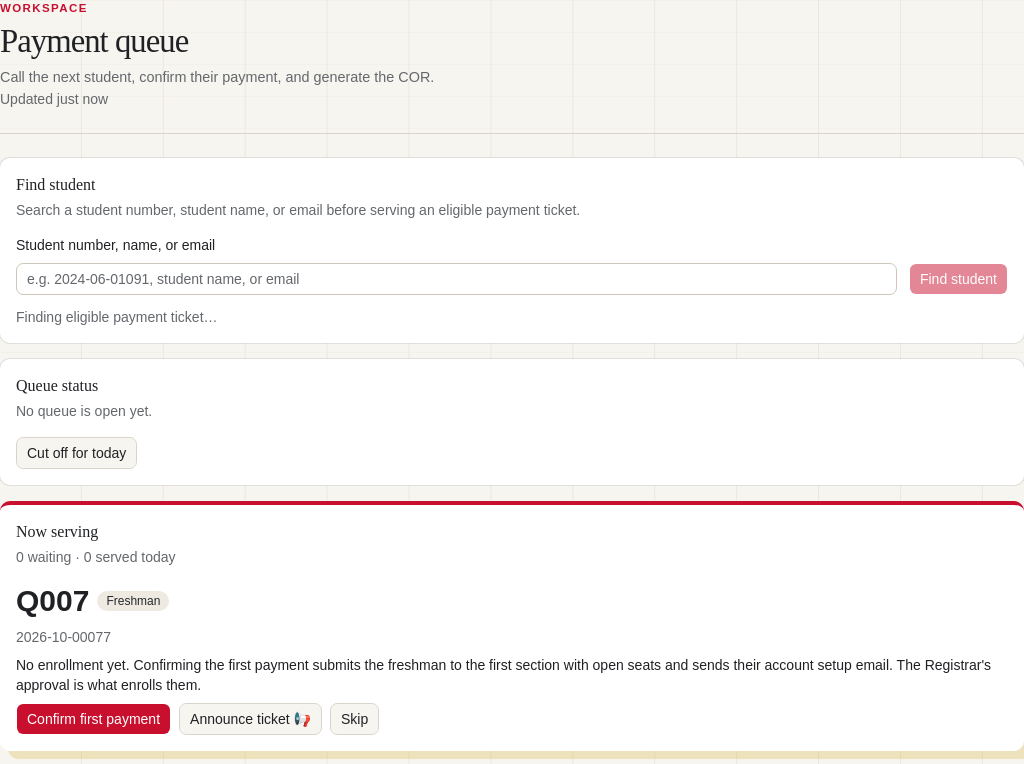
Scenario: AccountingPaymentWorkspace › freshman tickets › explains that the payment will be held when every section is full
Click the button "Confirm first payment" at (94, 719), box [16,703,171,735]
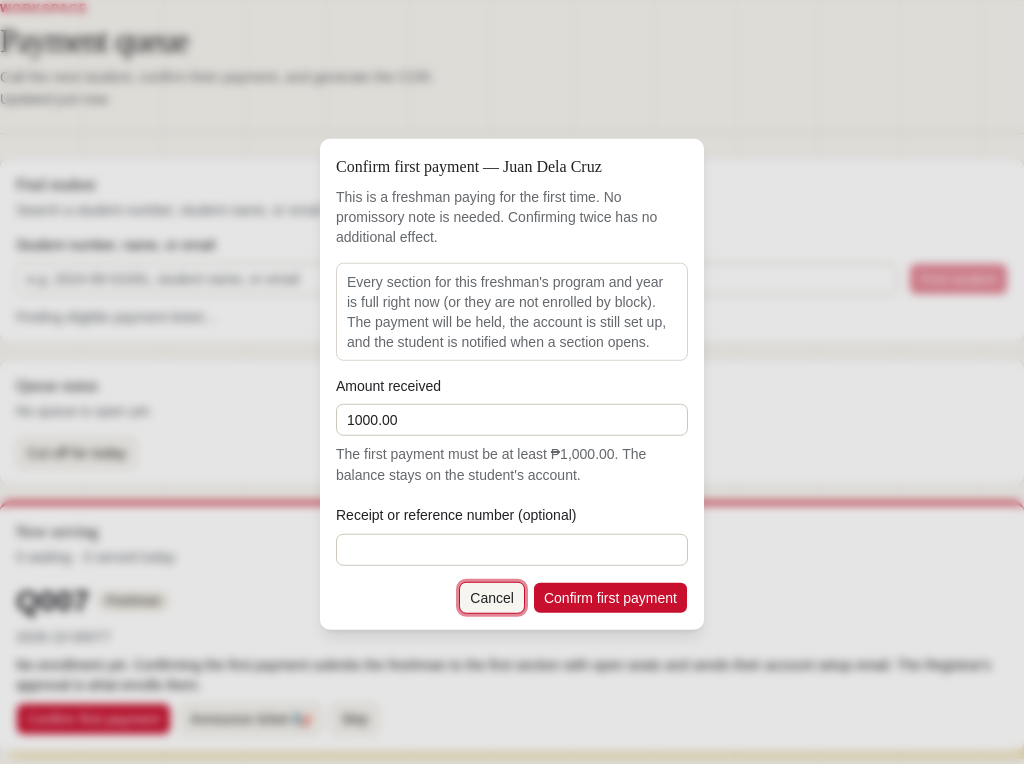
expect the dialog does not show "enrolls them automatically": met, box [320,139,704,629]
expect the dialog shows "No promissory note is needed": met, box [336,189,657,245]
Click the button "Confirm first payment" at (610, 597), box [533,581,688,613]
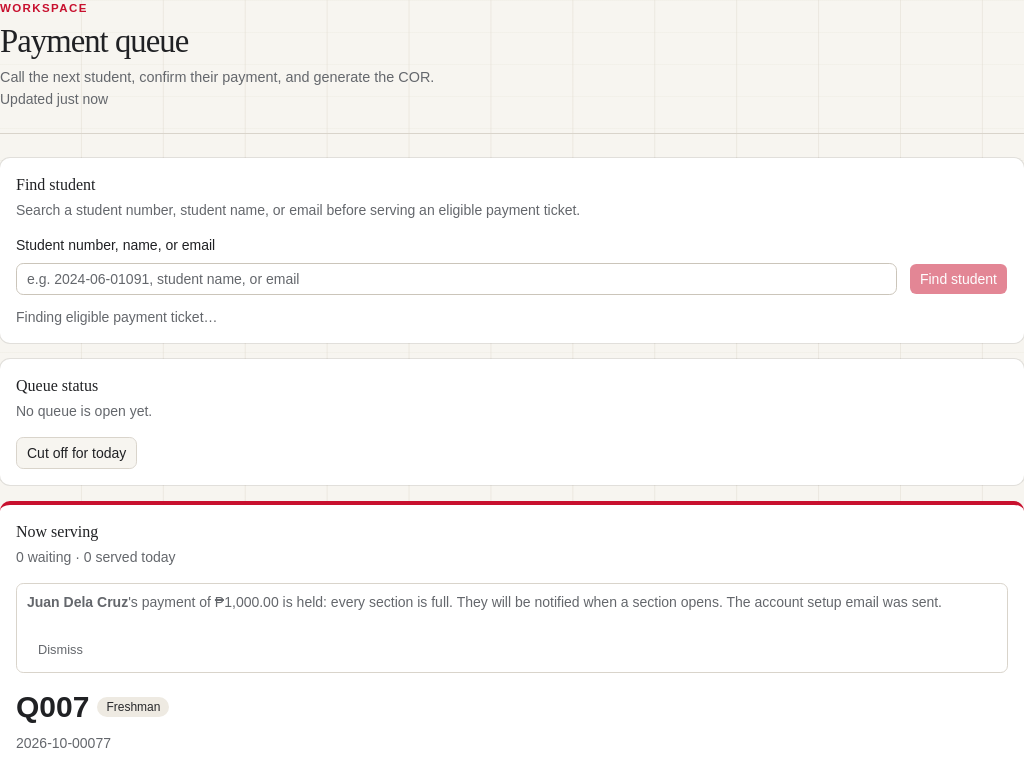
expect the text "is held" is shown: met, box [279,594,723,610]
